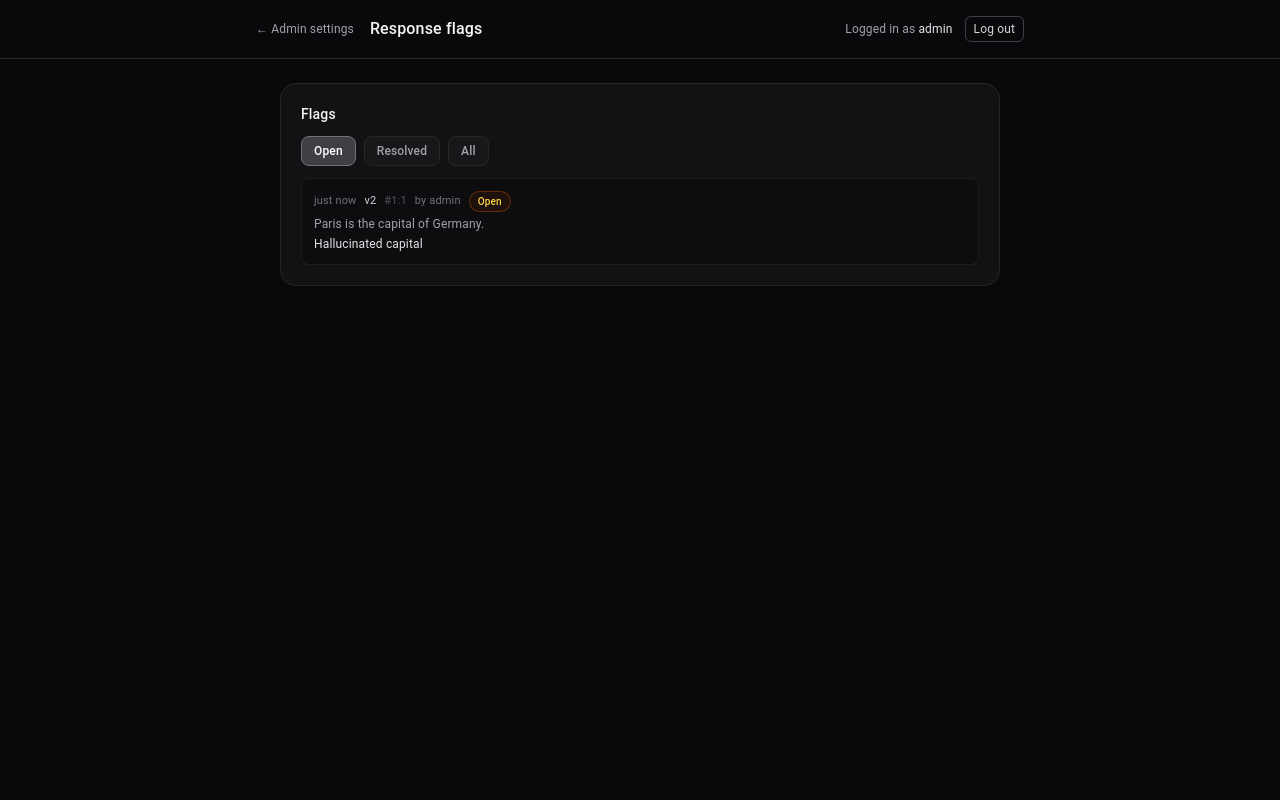
Test: resolving from the detail view drops the row from the open filter
This screenshot has width=1280, height=800.
Click the button named "Hallucinated capital": (335, 201) [301, 178, 979, 265]
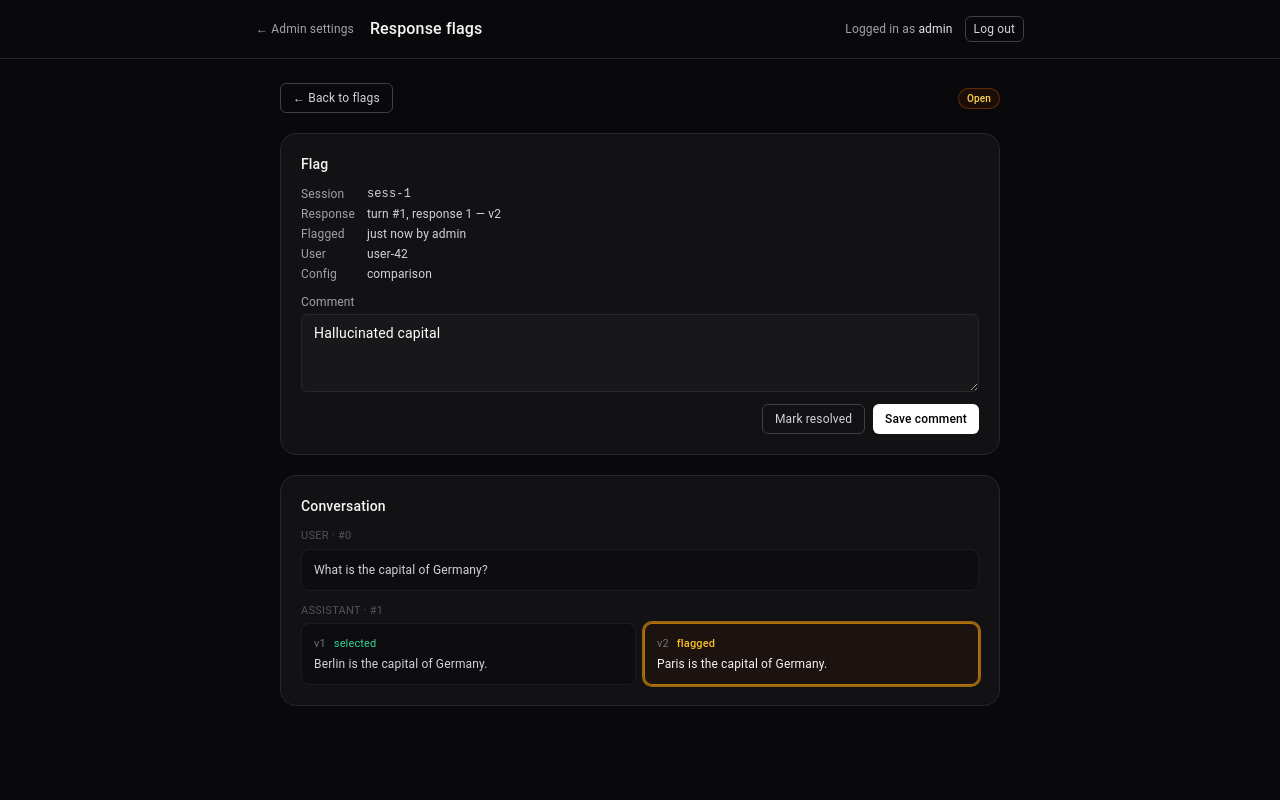
Click the button "Mark resolved": (814, 419) [762, 404, 865, 434]
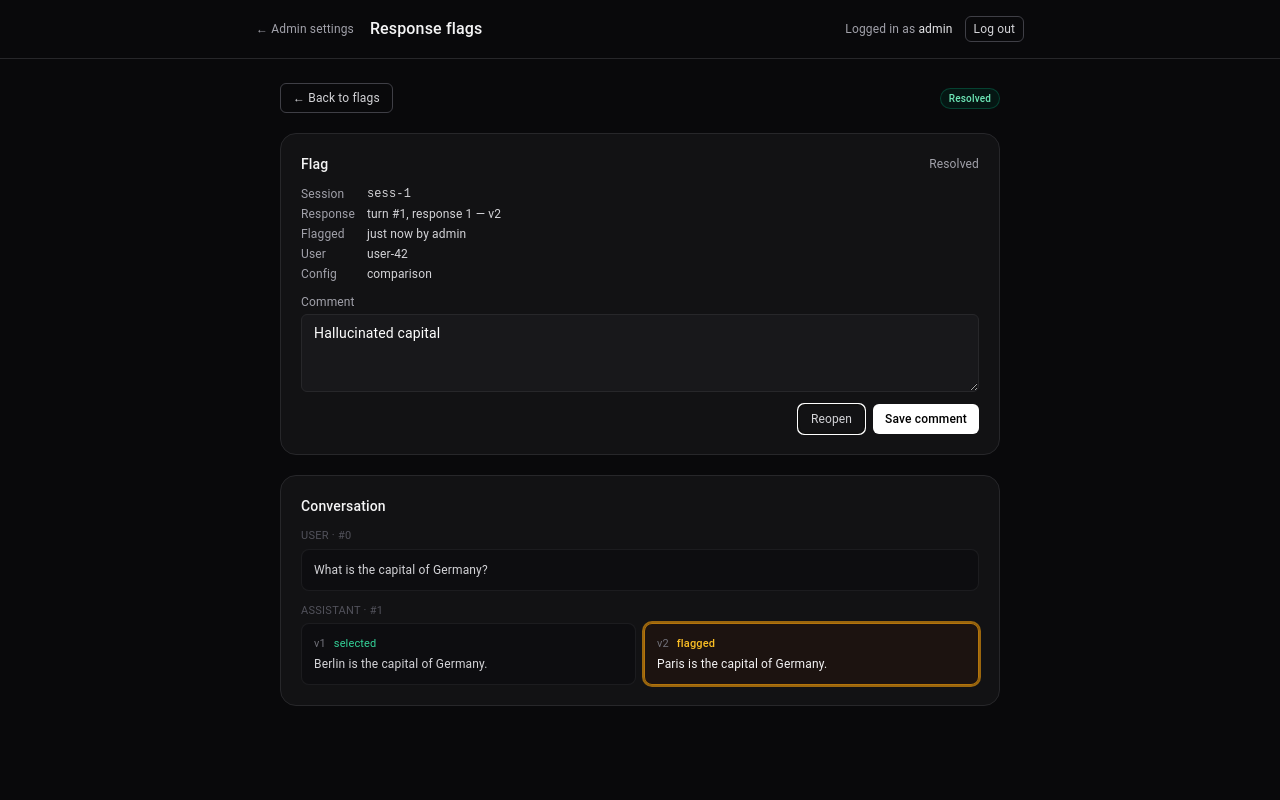
Click the button "← Back to flags": (336, 98) [280, 83, 393, 113]
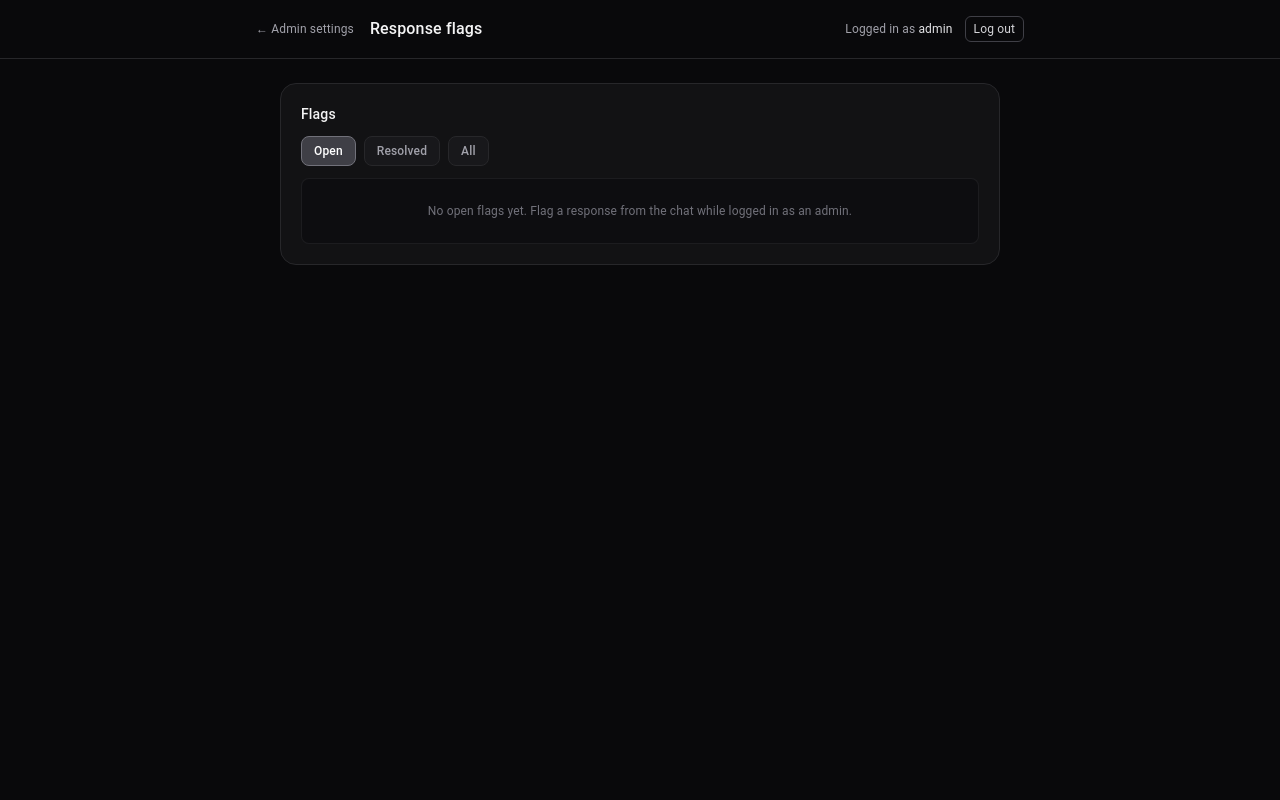
Result: the text "No open flags yet" is shown at [301, 178, 979, 244]
